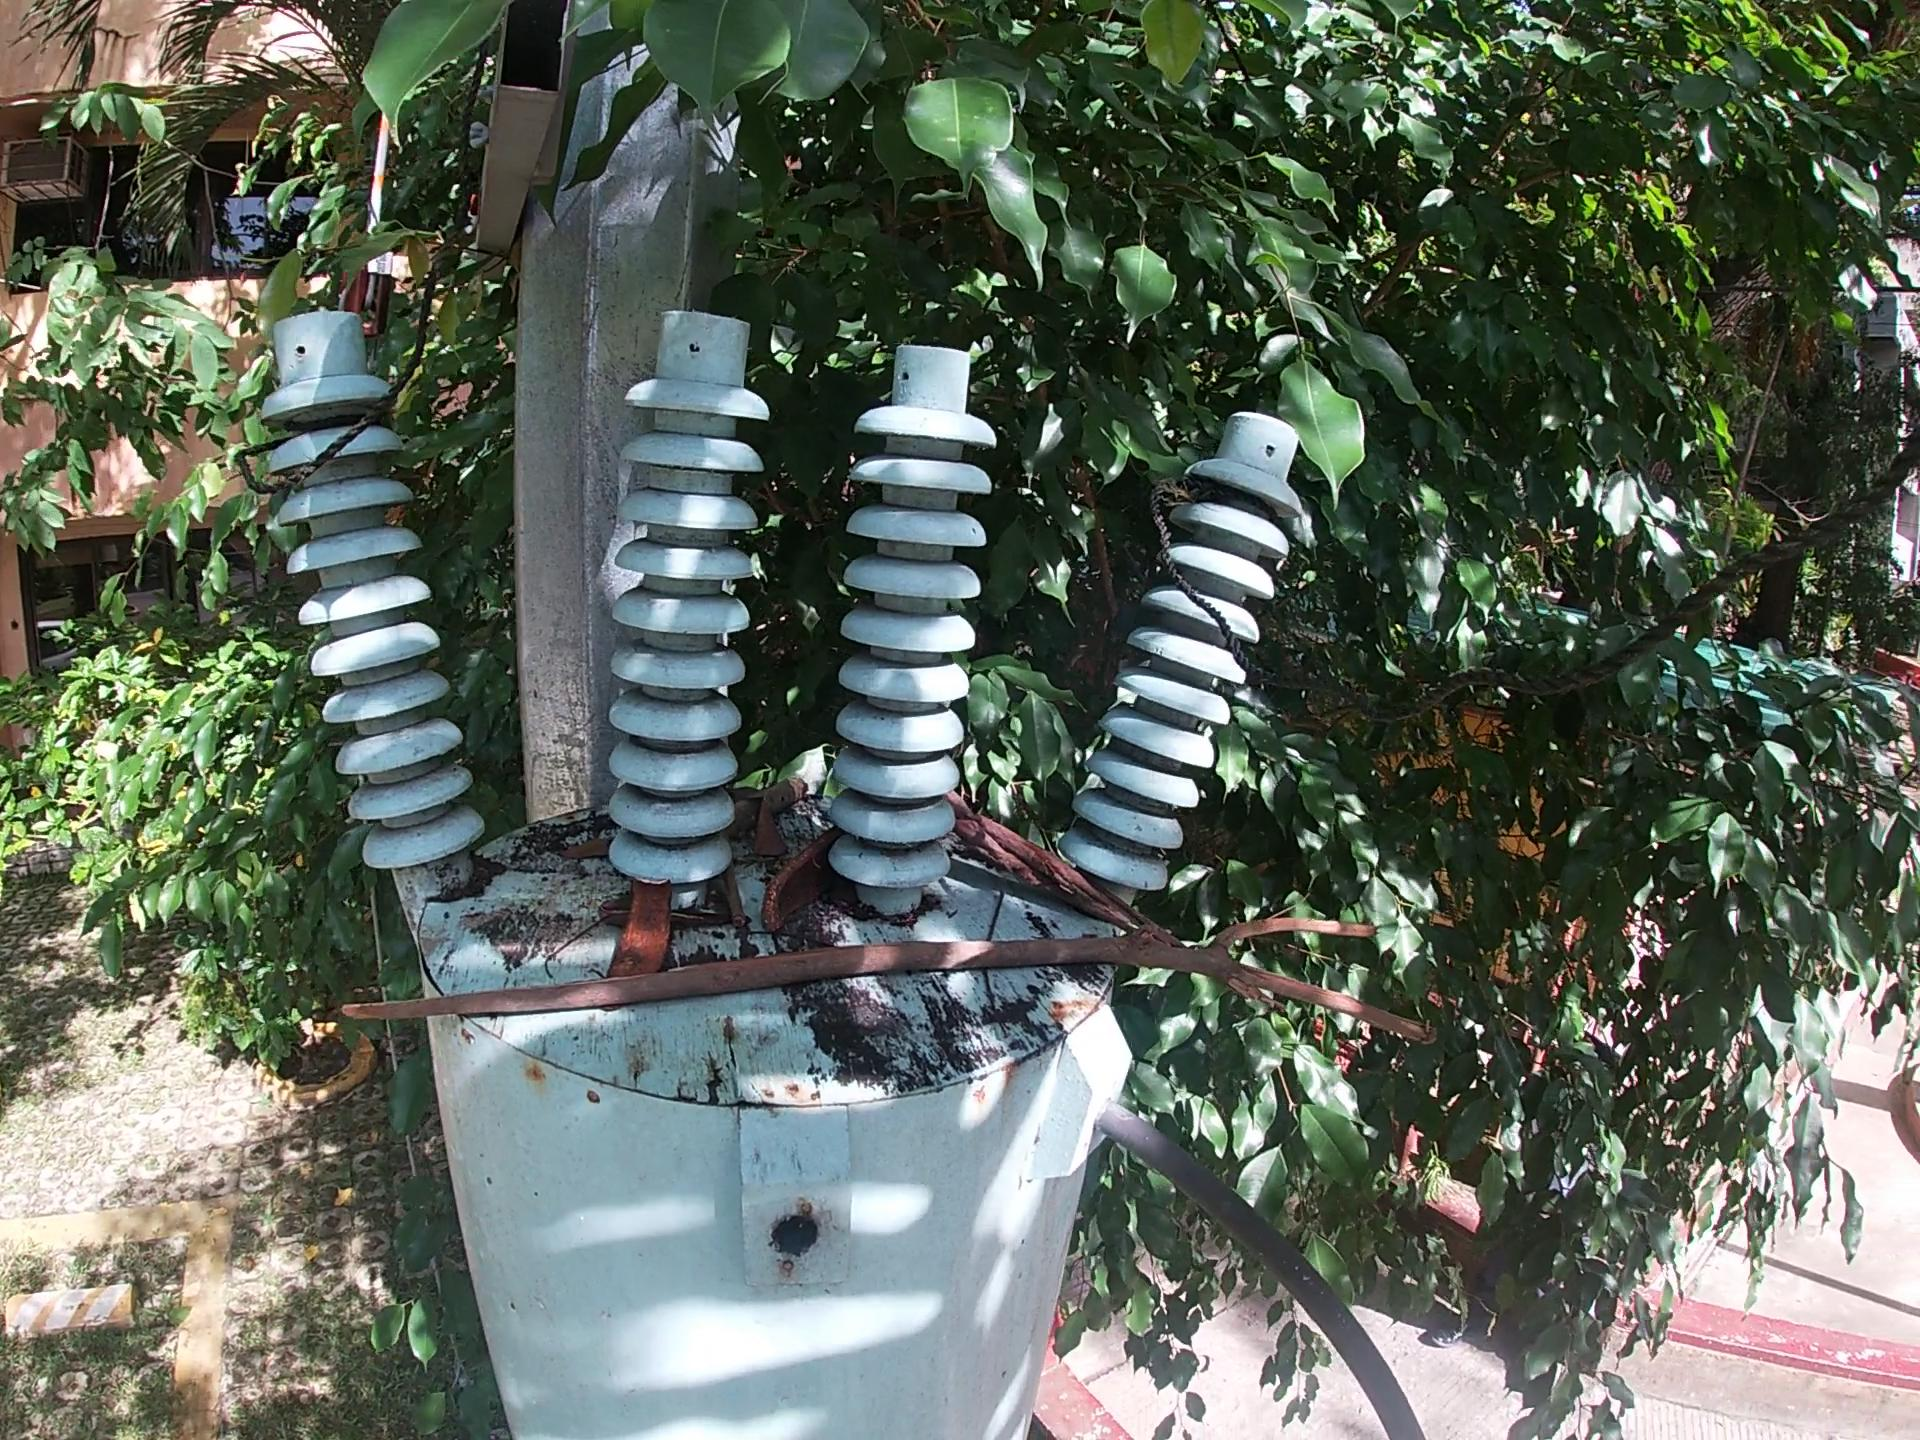leaf: (745, 790, 791, 867), (550, 833, 615, 868), (599, 886, 626, 939)
mahogany fruit: (756, 823, 853, 939), (603, 868, 685, 985)
tree branch: (331, 908, 1441, 1053), (943, 787, 1287, 1016), (721, 773, 812, 836), (717, 871, 751, 932)
